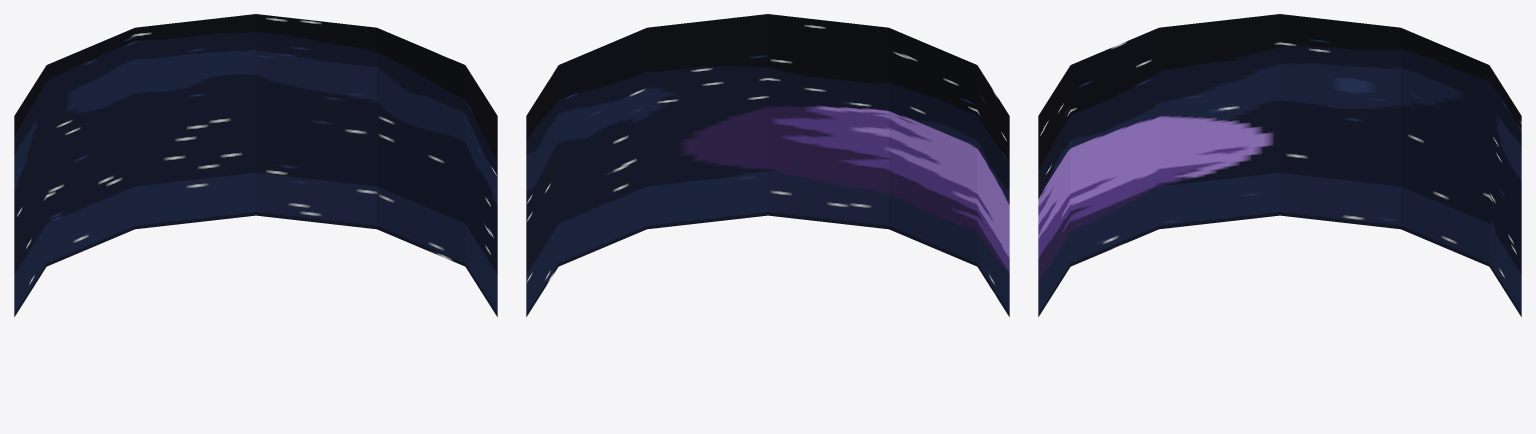
File: skyx.starfield__cylinder.glb
The picture shows the model from 3 angles, left to right: view 1: azimuth 30°, elevation 25°; view 2: azimuth 150°, elevation 25°; view 3: azimuth 270°, elevation 25°; orthographic projection.
Parts seen in each view (by area): view 1: kit_shell_sky; view 2: kit_shell_sky; view 3: kit_shell_sky.
Part boxes in pixels (left/top/right/bottom): kit_shell_sky: left=14, top=14, right=497, bottom=316; kit_shell_sky: left=526, top=14, right=1009, bottom=316; kit_shell_sky: left=1038, top=14, right=1521, bottom=316.
Size of the model in its own units: 600 by 276 by 600.
1 material, 1 textured.
